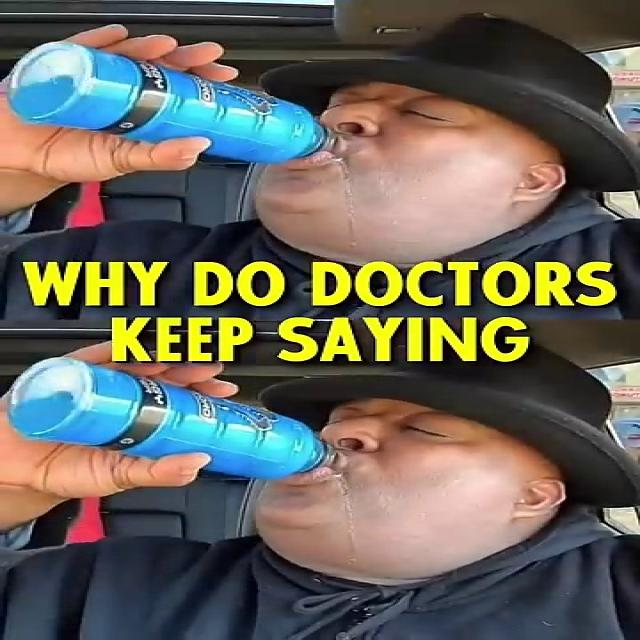Bottle: (10, 44, 350, 165), (9, 358, 348, 479)
Hand: (0, 29, 258, 193), (13, 333, 243, 512)
Mouth: (268, 450, 368, 497), (259, 142, 375, 181)
